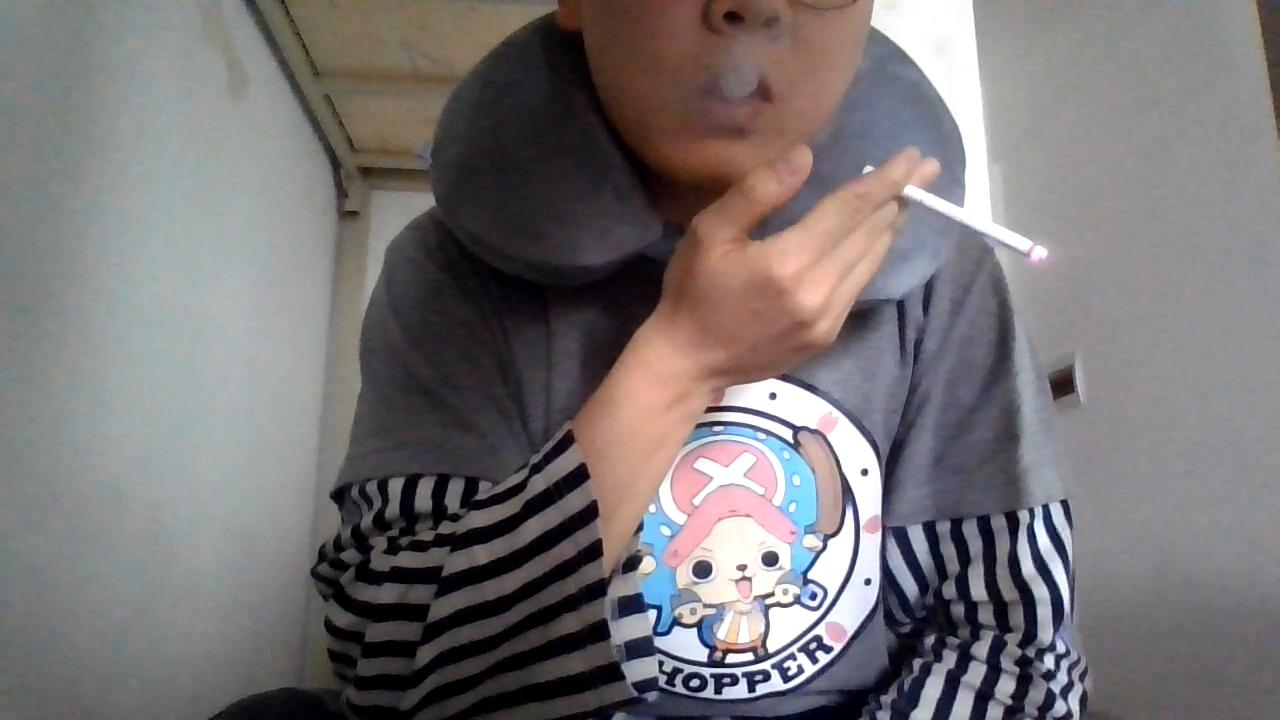yanwu: (717, 36, 758, 93)
